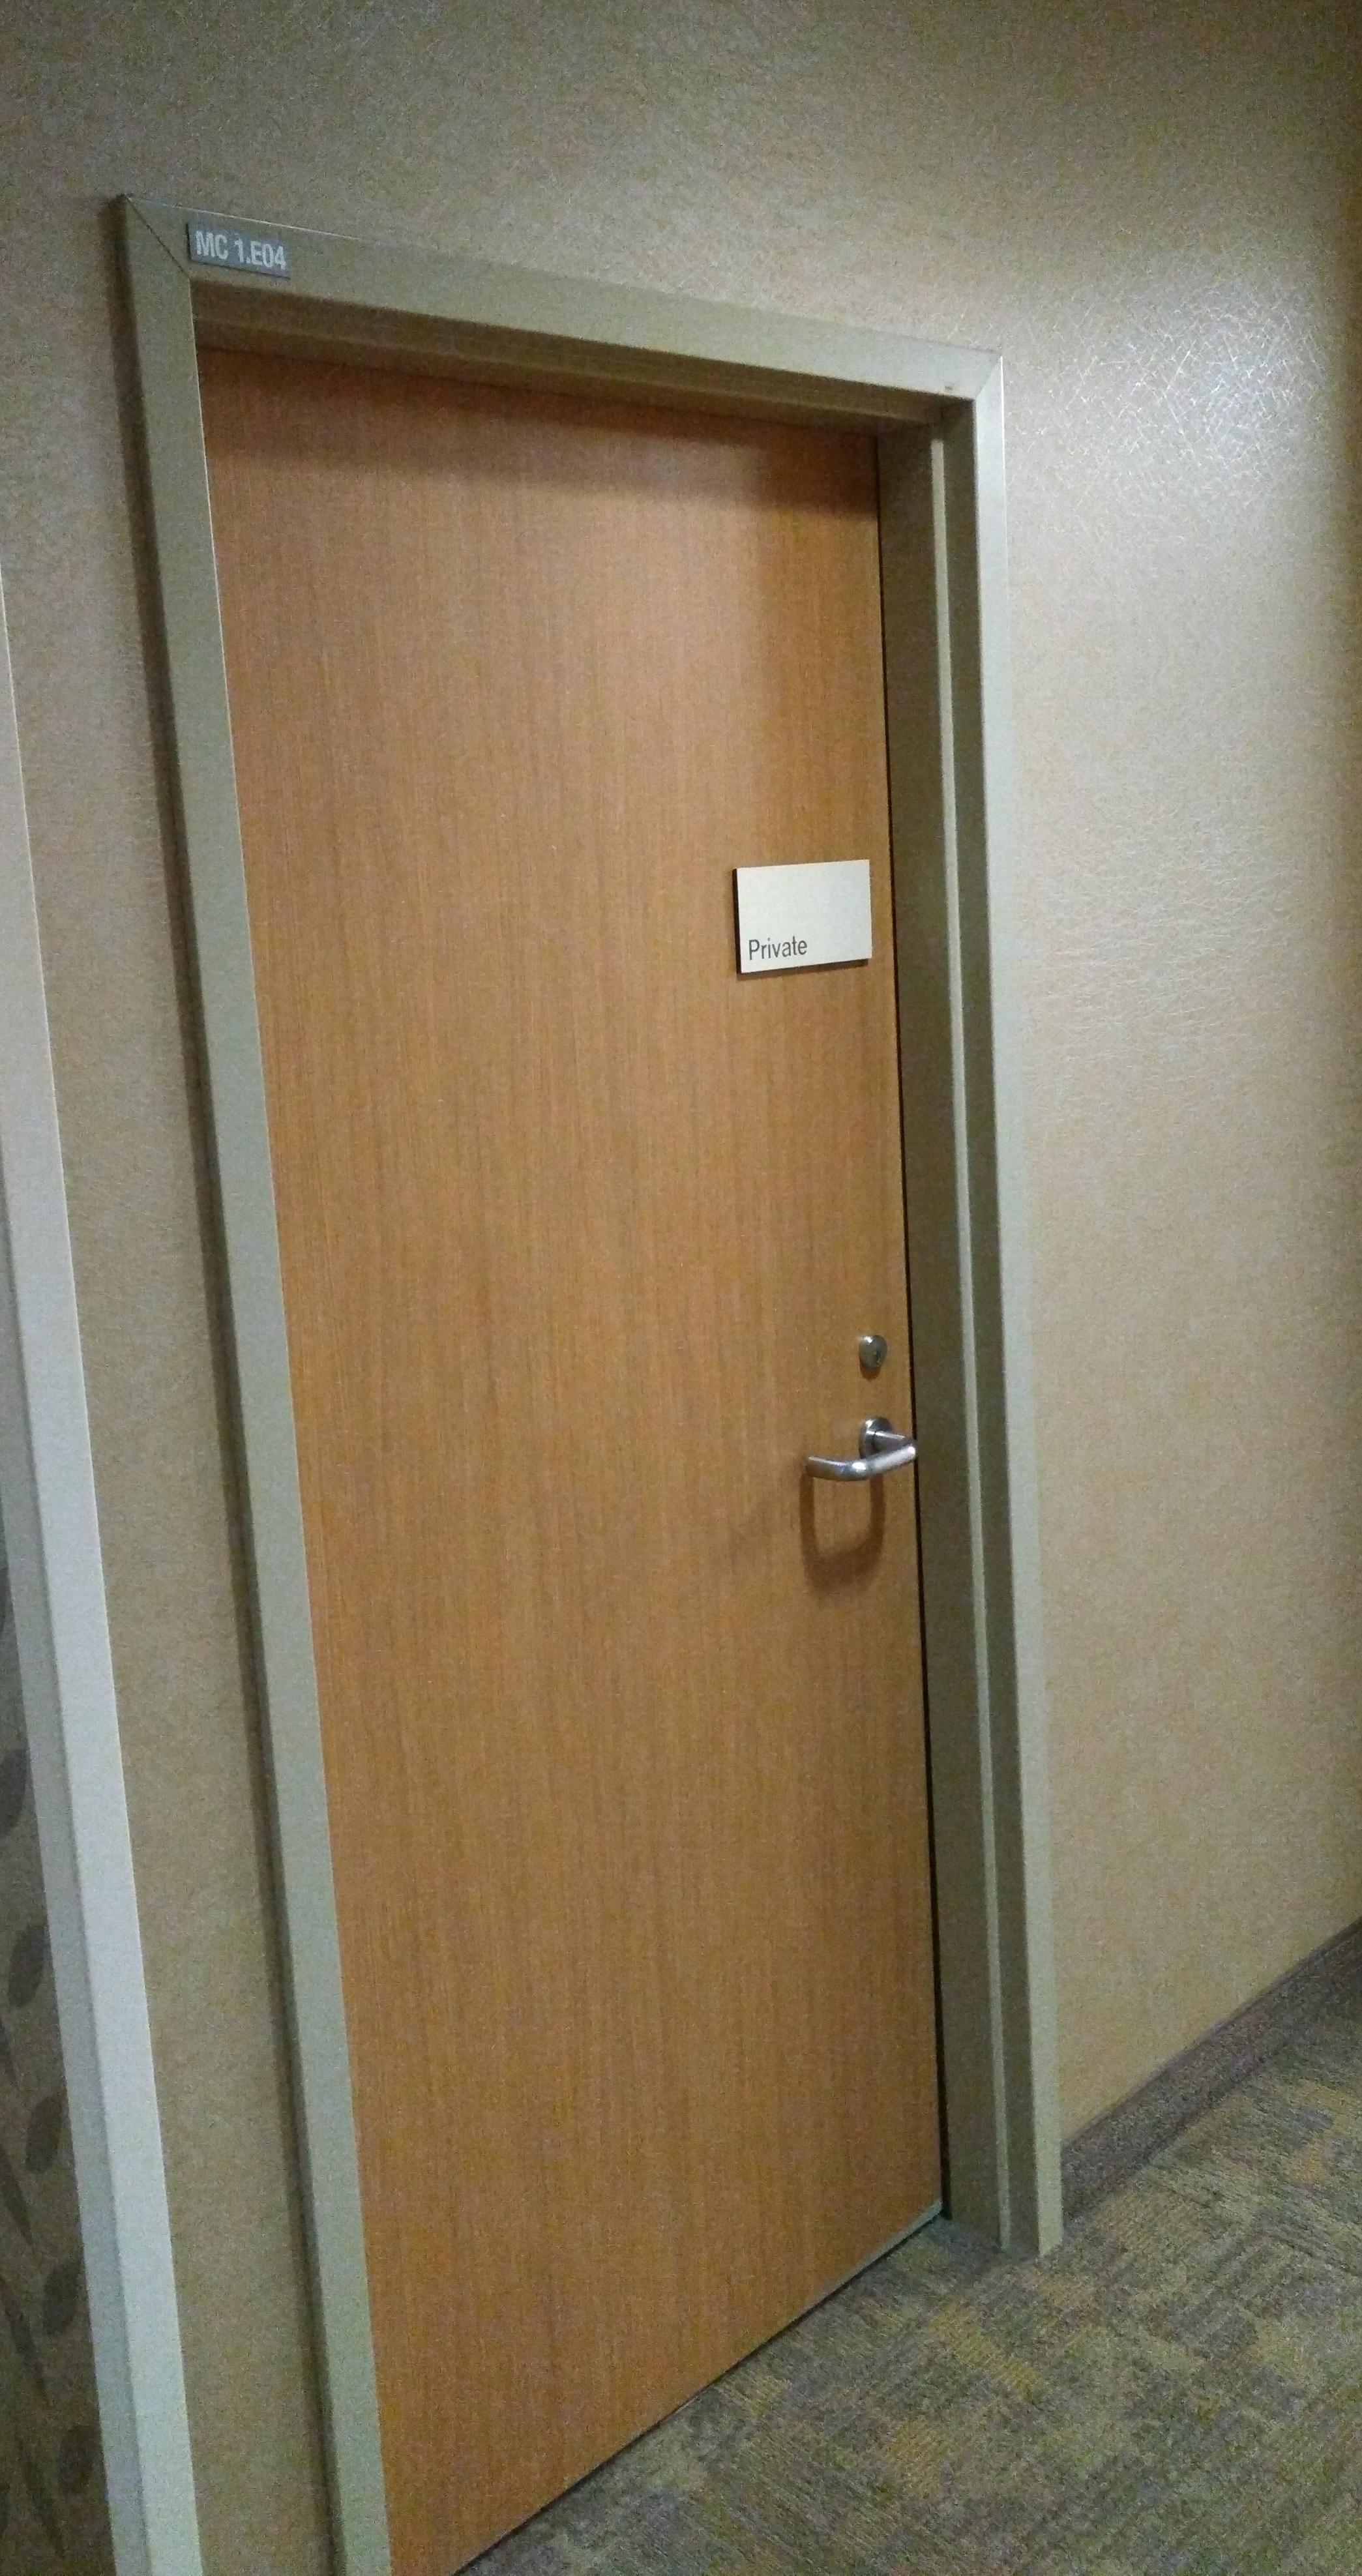handle: (817, 1370, 919, 1545)
